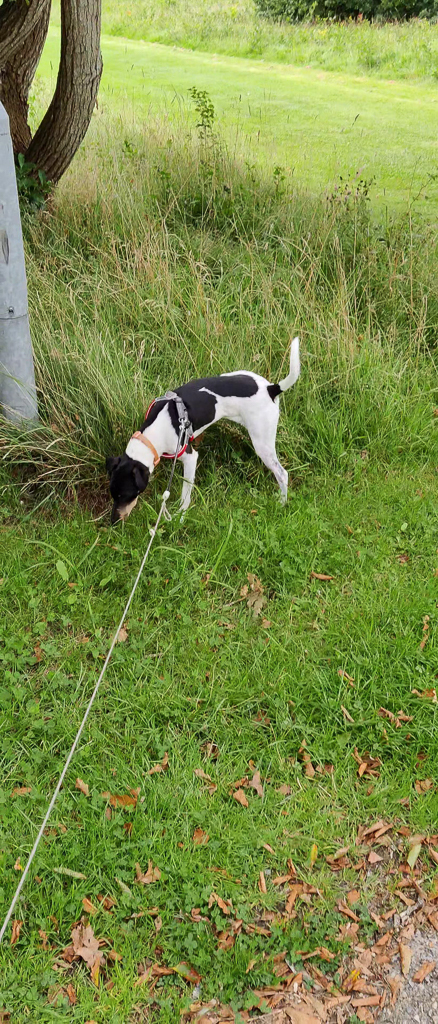Dog: (95, 326, 319, 538)
